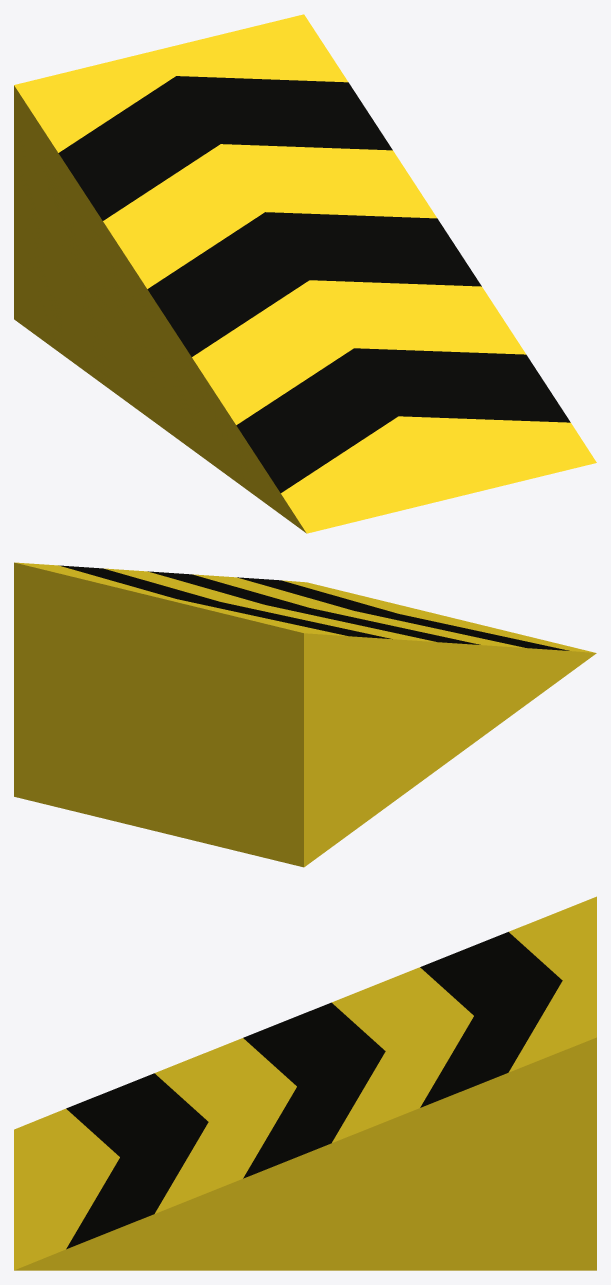
File: ramp.fbx
3 views of the same model, one above another, from view 1: azimuth 30°, elevation 25°; view 2: azimuth 150°, elevation 25°; view 3: azimuth 270°, elevation 25° (orthographic).
Visible parts, largest first — view 1: Cube; view 2: Cube; view 3: Cube.
Boxes of the visible parts, <box> form: Cube: <box>14,14,596,533</box>; Cube: <box>14,562,596,867</box>; Cube: <box>14,896,596,1270</box>.
Bounding box in the file's own units: 76.1 × 58.72 × 133.
